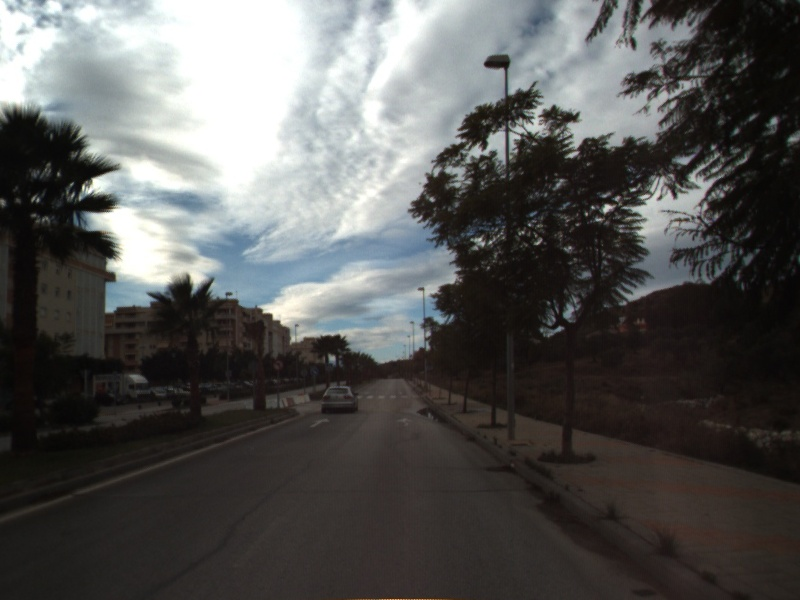STRAIGHT: (308, 416, 332, 429)
